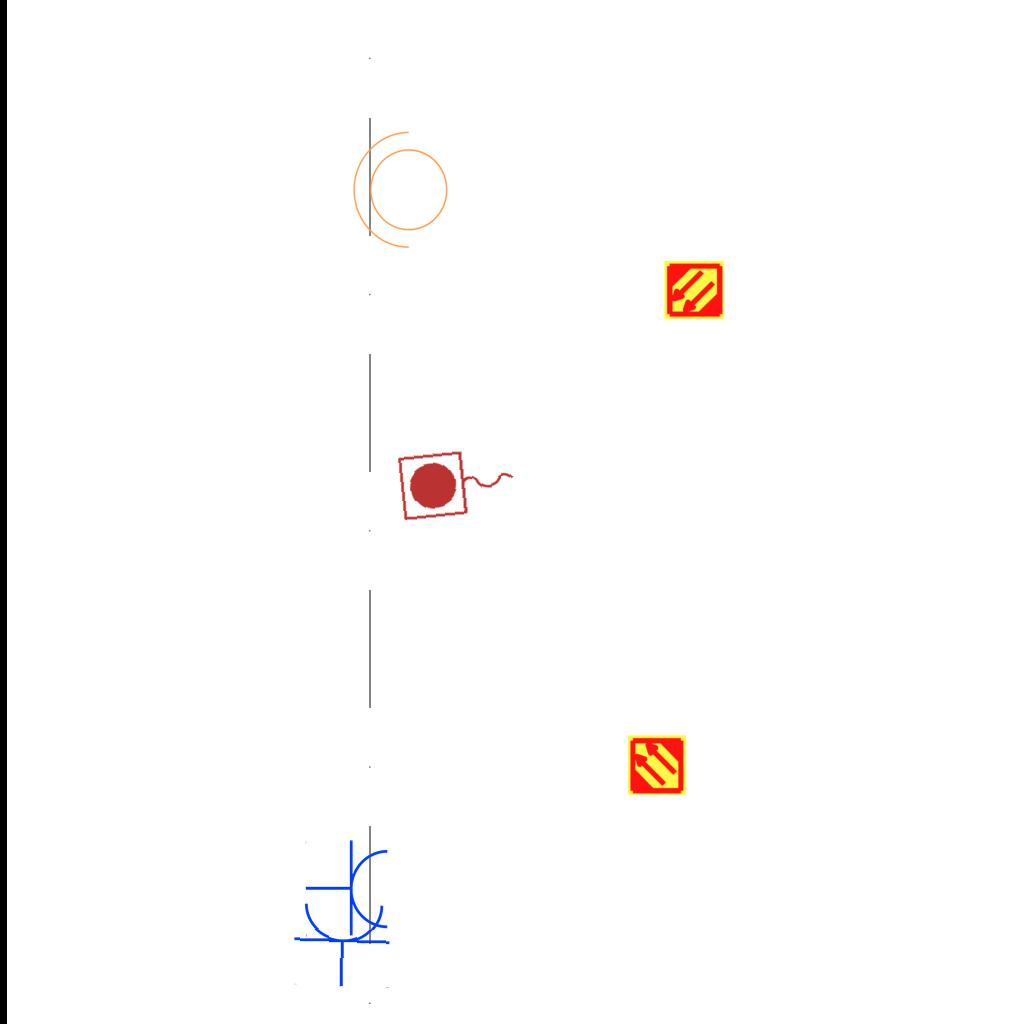ASR_Ansaugrauchmelder: (663, 259, 725, 321), (626, 734, 688, 796)
Scheinwerfer_fuer_Alarmbeleuchtung: (348, 127, 460, 259)
Schukosteckdose_einfach: (291, 898, 395, 989), (305, 839, 392, 939)
Zugtaster: (393, 441, 523, 527)
